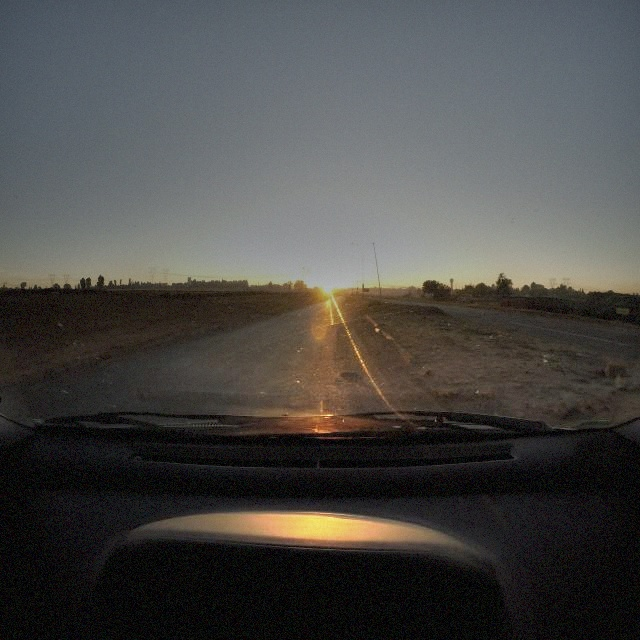pothole: (339, 370, 364, 388)
